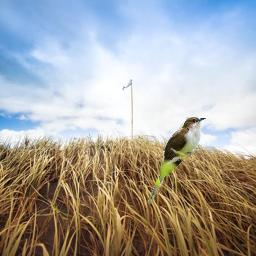Cuckoo: (147, 116, 206, 204)
